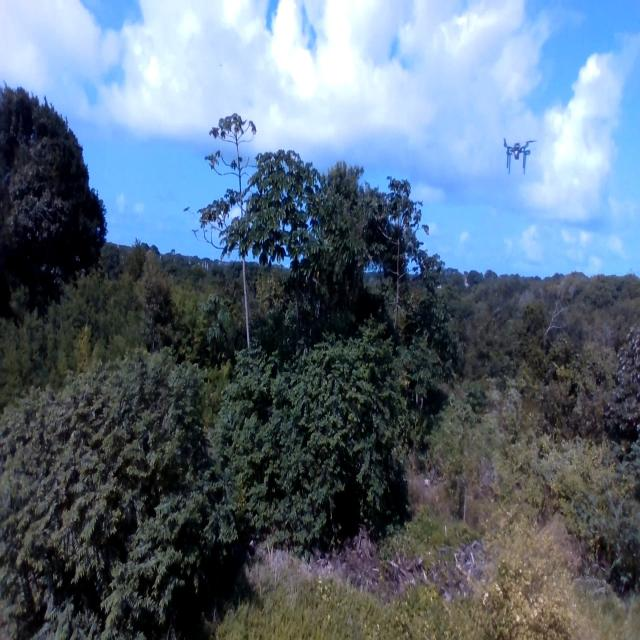-uav-: (498, 126, 544, 177)
